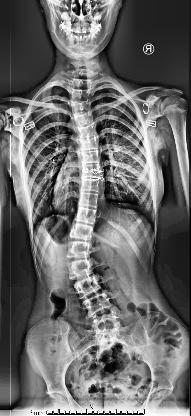Vertebrae: (84, 295, 113, 313), (92, 314, 122, 330), (67, 260, 93, 278), (74, 280, 102, 296), (69, 224, 95, 240), (74, 208, 98, 224), (66, 242, 90, 258), (78, 178, 102, 192), (78, 137, 100, 151), (80, 150, 102, 164), (80, 164, 102, 178), (78, 193, 100, 207), (73, 113, 95, 125), (76, 126, 98, 138), (70, 101, 92, 112), (72, 90, 90, 102), (73, 79, 92, 89)
